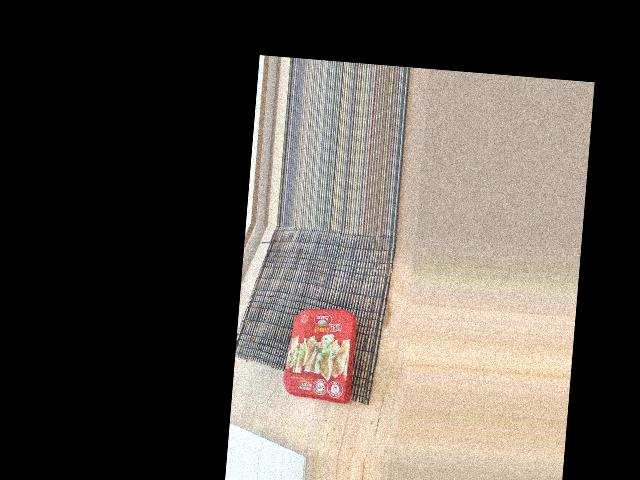cheese: (279, 300, 363, 422)
